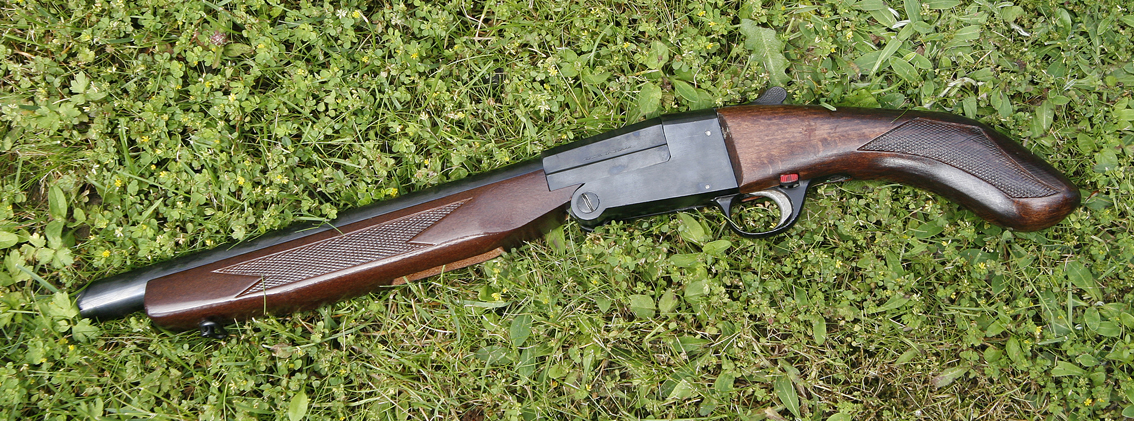Gun: (79, 106, 821, 319)
